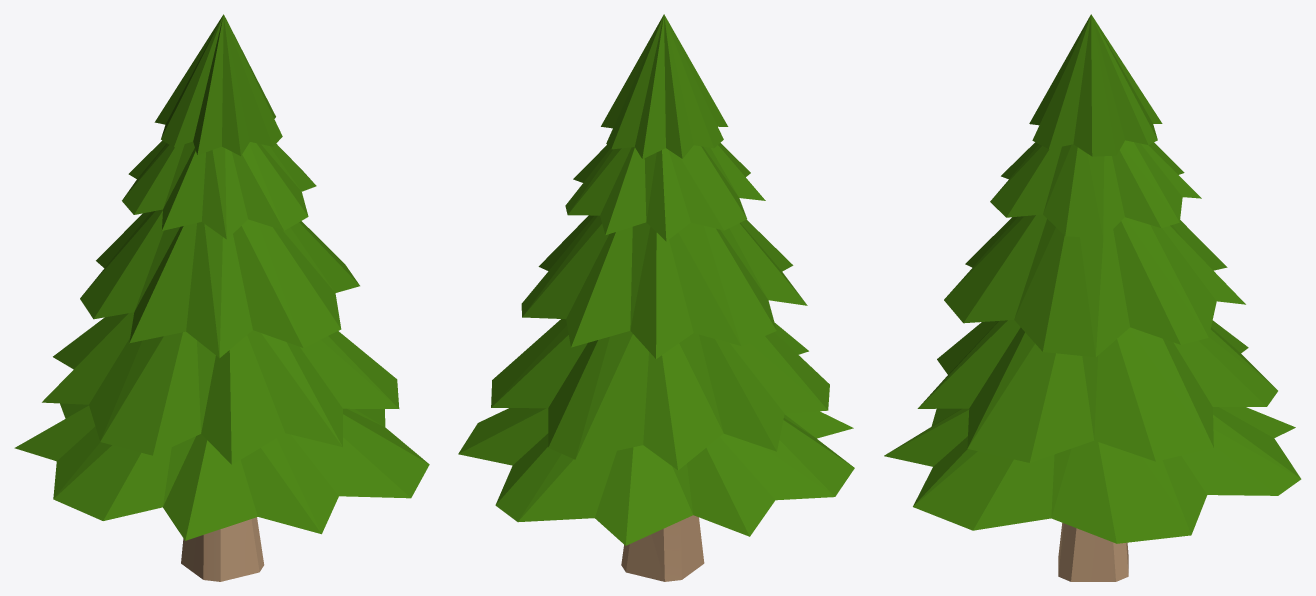
Rendered from Pine Tree.fbx.
3 renders of one model, left to right at view 1: azimuth 30°, elevation 25°; view 2: azimuth 150°, elevation 25°; view 3: azimuth 270°, elevation 25°, orthographic.
Parts seen in each view (by area): view 1: Pine_Tree; view 2: Pine_Tree; view 3: Pine_Tree.
Boxes of the visible parts, x1,y1,x2,y2 form: Pine_Tree: (14, 14, 429, 581); Pine_Tree: (458, 14, 854, 581); Pine_Tree: (884, 14, 1301, 581).
Size of the model in its own units: 349 by 532 by 365.
